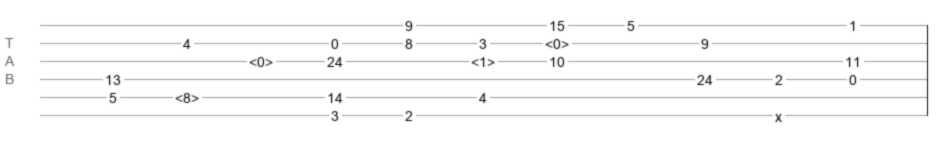0: (331, 36, 339, 46), (849, 72, 857, 82)
1: (849, 18, 857, 28)
10: (549, 54, 565, 64)
11: (845, 54, 861, 64)
13: (105, 72, 121, 82)
14: (327, 90, 343, 100)
15: (549, 18, 565, 28)
2: (405, 108, 413, 118), (775, 72, 783, 82)
24: (327, 54, 343, 64), (697, 72, 713, 82)
3: (331, 108, 339, 118), (479, 36, 487, 46)
4: (183, 36, 191, 46), (479, 90, 487, 100)
5: (109, 90, 117, 100), (627, 18, 635, 28)
8: (405, 36, 413, 46)
9: (405, 18, 413, 28), (701, 36, 709, 46)
harmonic: (175, 90, 199, 100), (249, 54, 273, 64), (471, 54, 495, 64), (545, 36, 569, 46)
x: (775, 109, 782, 117)
